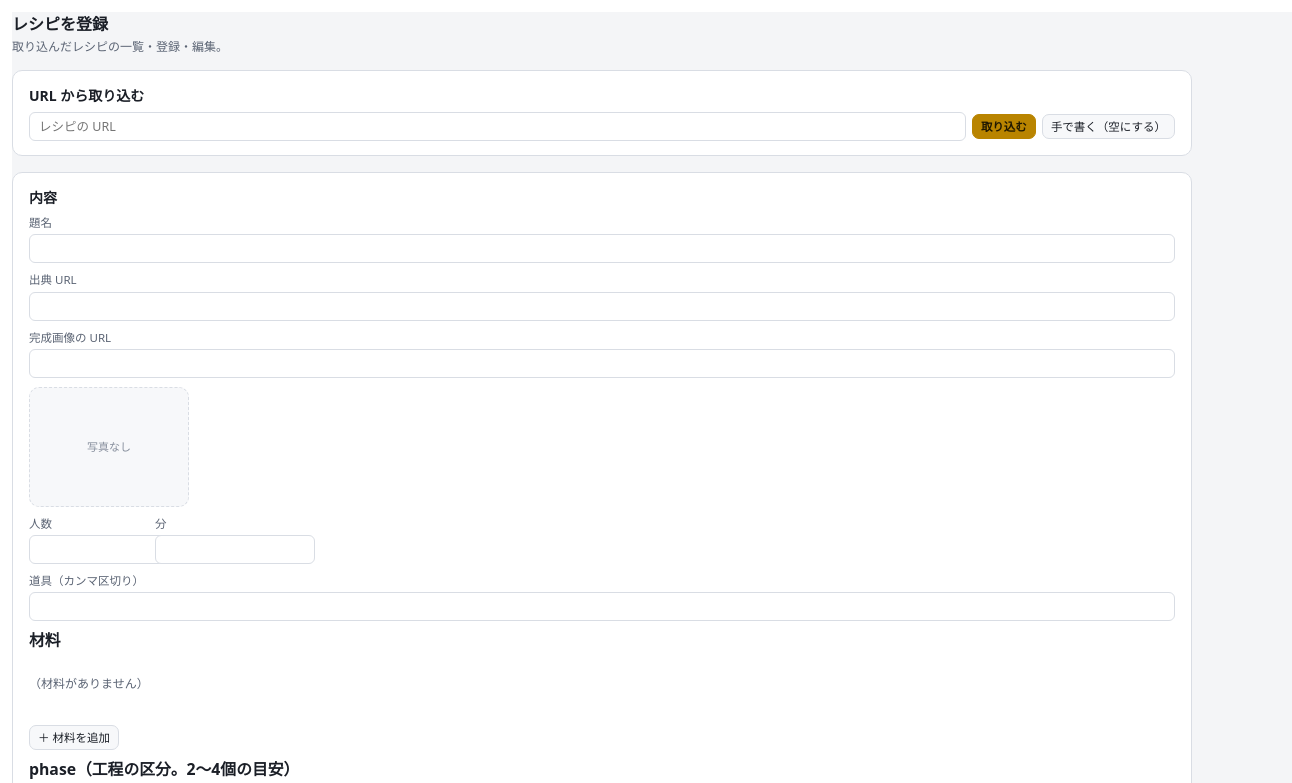
it: kitchen recipes — 登録・取り込み（ADR-015 D2・D4・§6 D7） › 「Claude で整える」は /refine を呼び、返った下書きでフォームを置き換える
The width and height of the screenshot is (1292, 783).
Type "https://example.com/x" into the field with placeholder "レシピの URL" at (497, 126), box [29, 112, 966, 141]
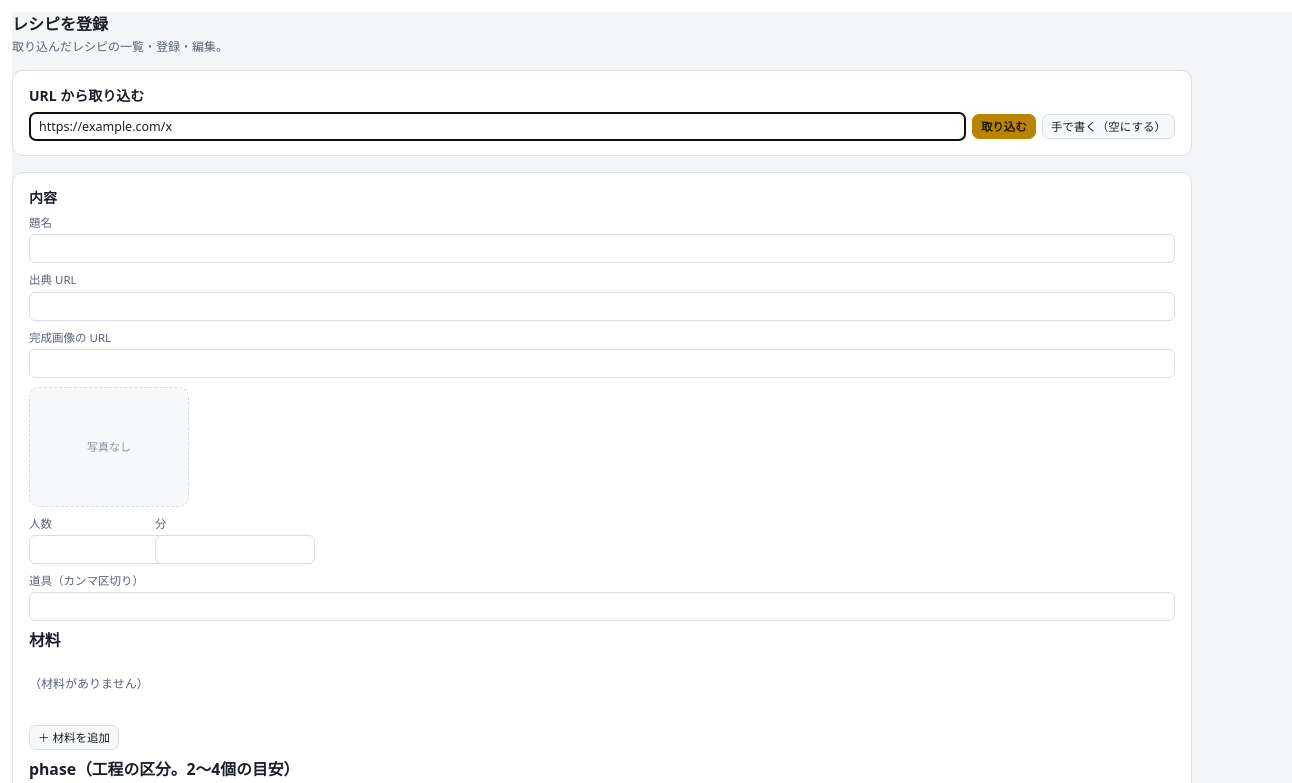
Click the button "取り込む" at (1004, 127), box [972, 114, 1036, 139]
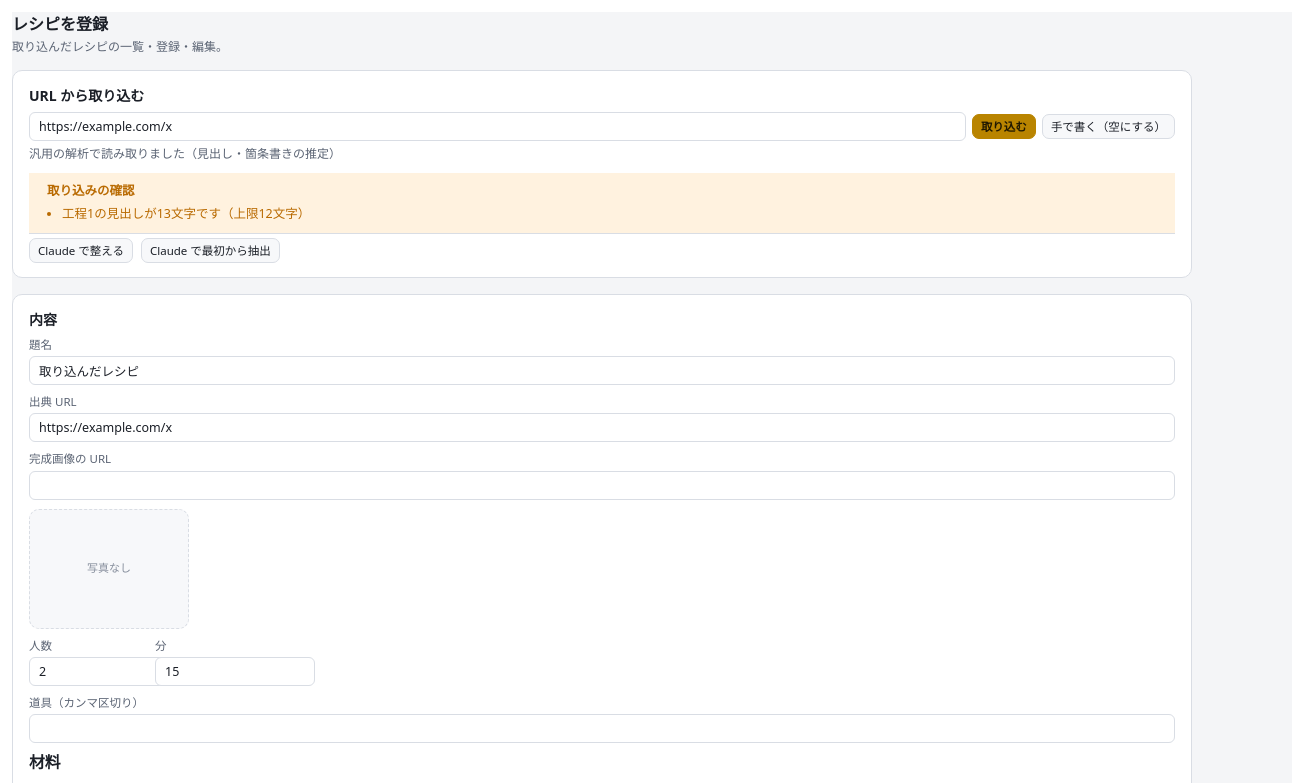
Click the button "Claude で整える" at (81, 250), box [29, 238, 133, 263]
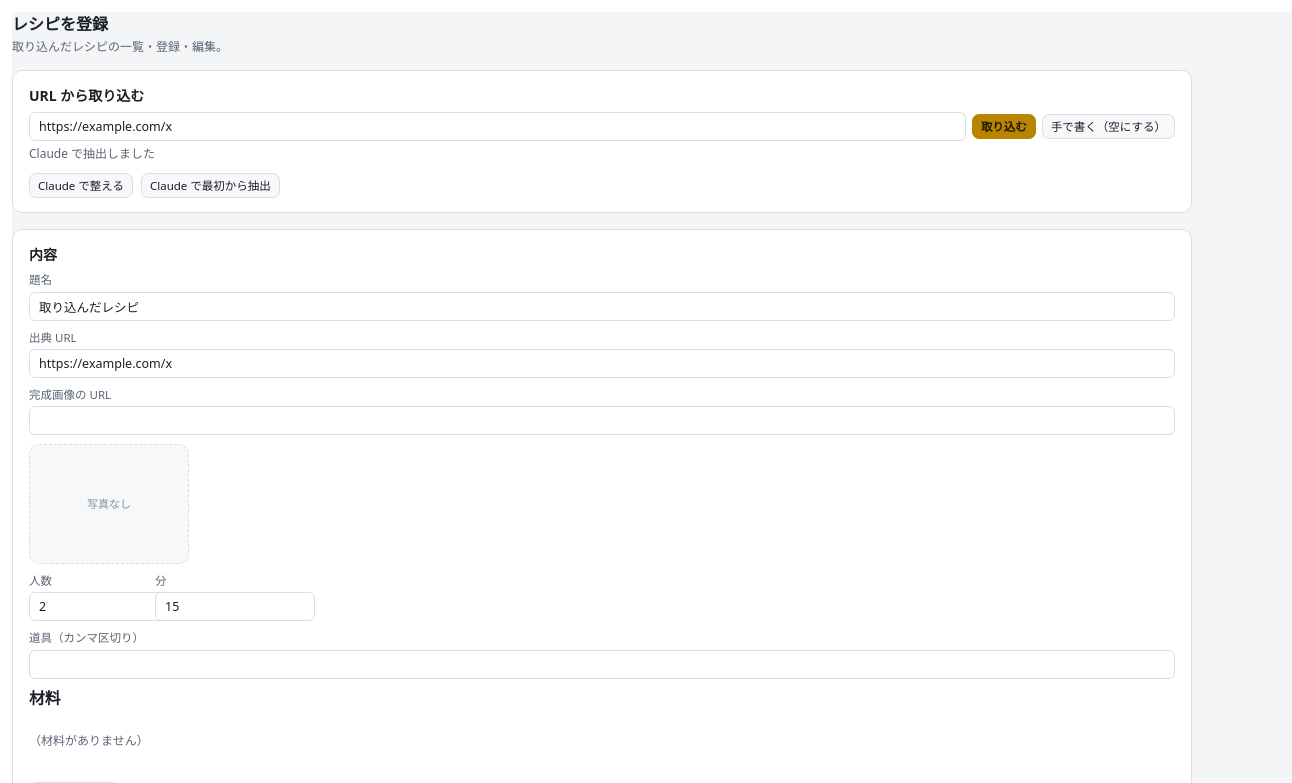
Check: the text "Claude で抽出しました" is shown, box [29, 145, 155, 162]
